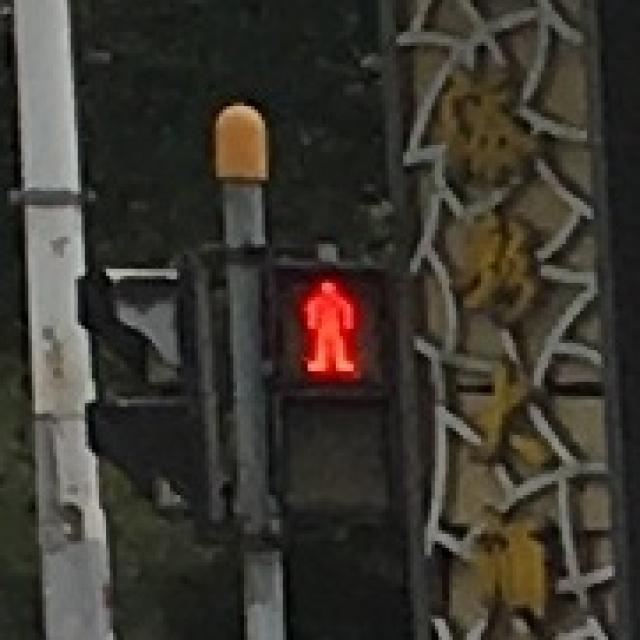red_light: (286, 266, 368, 386)
